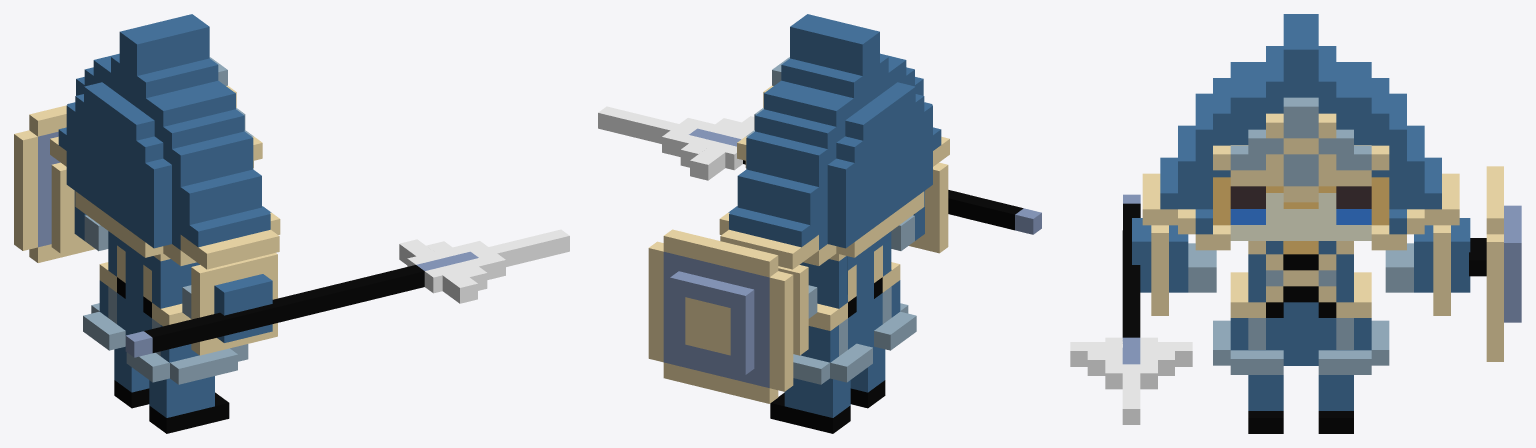
File: Lancer.fbx
3 renders of one model, left to right at view 1: azimuth 30°, elevation 25°; view 2: azimuth 150°, elevation 25°; view 3: azimuth 270°, elevation 25°, orthographic.
Parts seen in each view (by area): view 1: headGire, Lance, body, shield, rightArm, rightFoot, leftArm, leftFoot; view 2: headGire, shield, body, Lance, leftFoot, rightArm, leftArm, rightFoot; view 3: headGire, body, head, Lance, shield, leftArm, rightArm, rightFoot, leftFoot.
Boxes of the visible parts, left/top/right/bottom form: headGire: left=50, top=14, right=280, bottom=269; Lance: left=125, top=229, right=569, bottom=357; body: left=83, top=231, right=248, bottom=384; shield: left=14, top=105, right=95, bottom=262; rightArm: left=182, top=253, right=277, bottom=355; rightFoot: left=149, top=376, right=229, bottom=433; leftArm: left=51, top=162, right=108, bottom=253; leftFoot: left=114, top=346, right=149, bottom=408; headGire: left=719, top=14, right=949, bottom=269; shield: left=648, top=229, right=793, bottom=403; body: left=793, top=231, right=916, bottom=384; Lance: left=598, top=106, right=1041, bottom=234; leftFoot: left=770, top=378, right=850, bottom=433; rightArm: left=891, top=162, right=948, bottom=253; leftArm: left=778, top=265, right=817, bottom=355; rightFoot: left=850, top=346, right=885, bottom=408; headGire: left=1142, top=14, right=1459, bottom=250; body: left=1213, top=241, right=1389, bottom=374; head: left=1213, top=145, right=1389, bottom=240; Lance: left=1070, top=194, right=1192, bottom=424; shield: left=1469, top=166, right=1521, bottom=361; leftArm: left=1385, top=218, right=1470, bottom=315; rightArm: left=1132, top=218, right=1216, bottom=315; rightFoot: left=1248, top=375, right=1283, bottom=433; leftFoot: left=1318, top=375, right=1353, bottom=433.
Bounding box in the file's own units: 641 × 720 × 600.
Materials: 1 (1 with a texture image).
